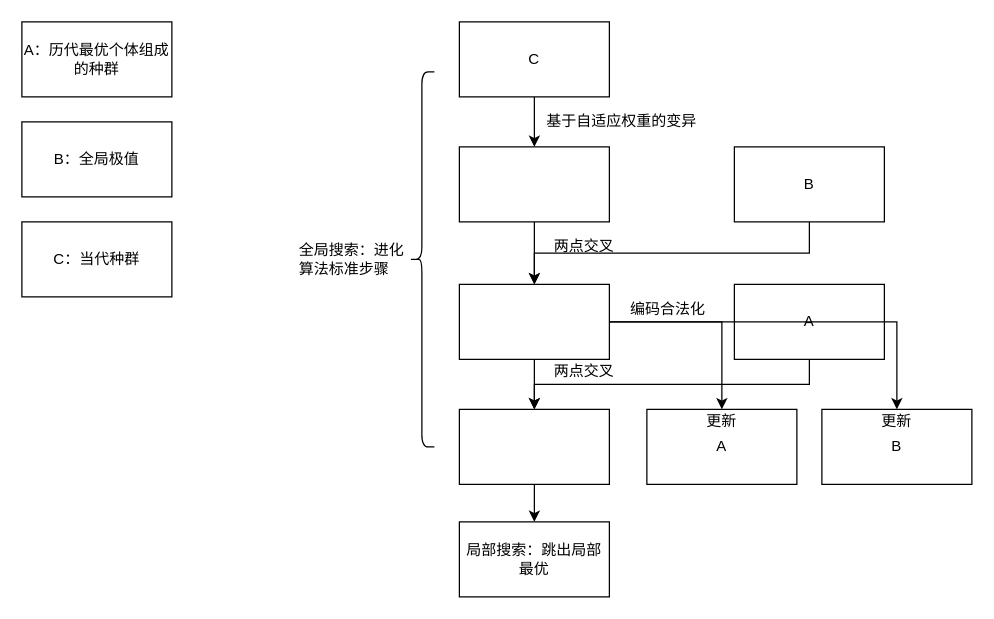
Image size: 994x619. Some labels were removed from this diagram. The centre of each missing label's shape, as x and y in pixels:
"C1" goes at pixel 533 184.
"C2" goes at pixel 533 321.
"C3" goes at pixel 533 446.
